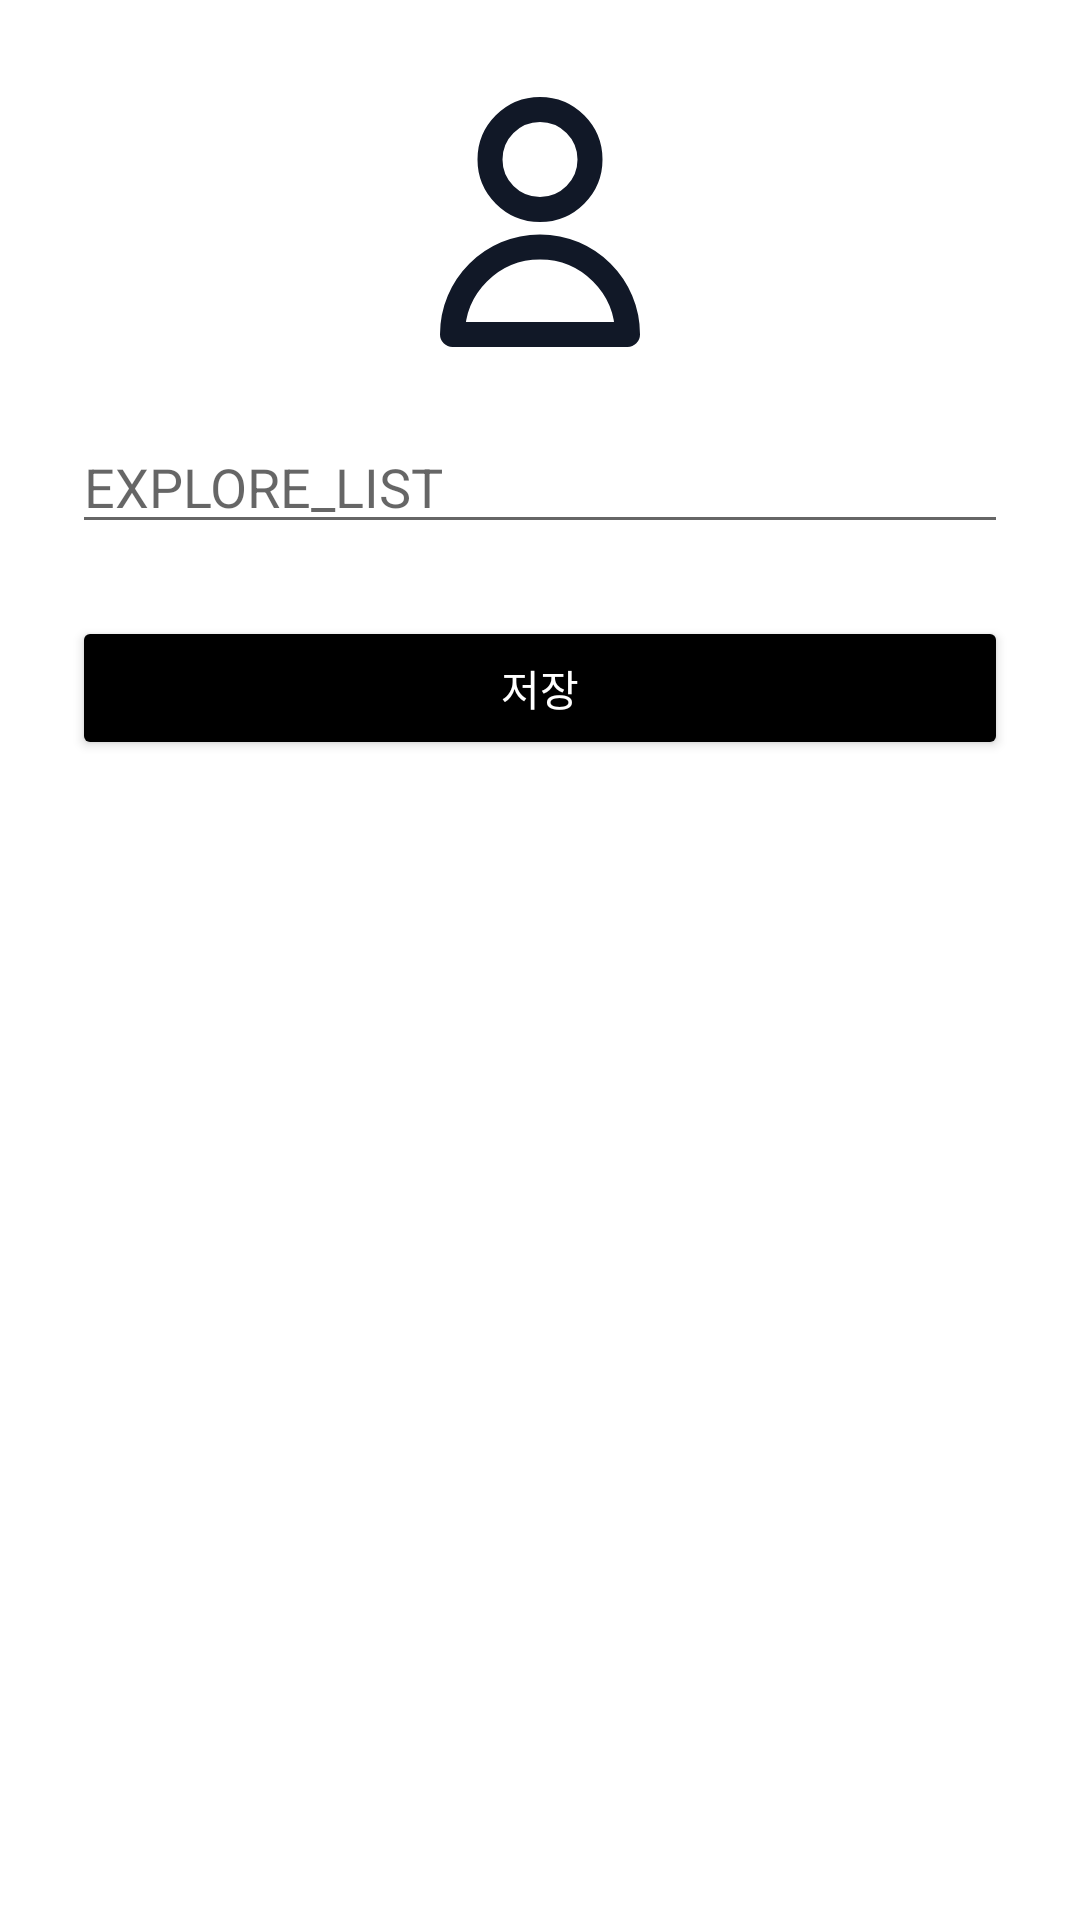

Locate icon controls on the screen. Image size 1080×1920, boxes as [x1, y1, x2, y2].
person: [440, 97, 640, 347]
